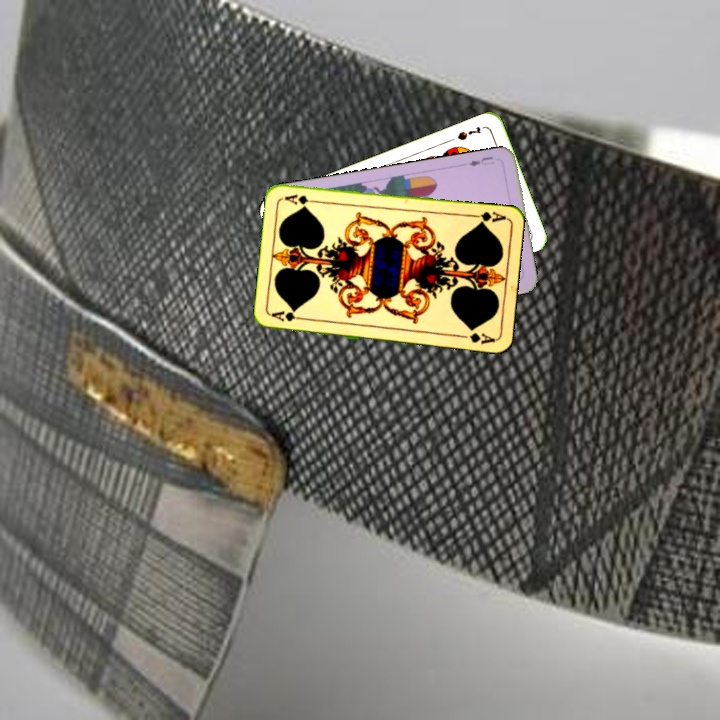EU: (465, 152, 496, 169)
GA: (467, 207, 508, 226), (268, 307, 308, 324)
S7: (453, 122, 483, 143)
